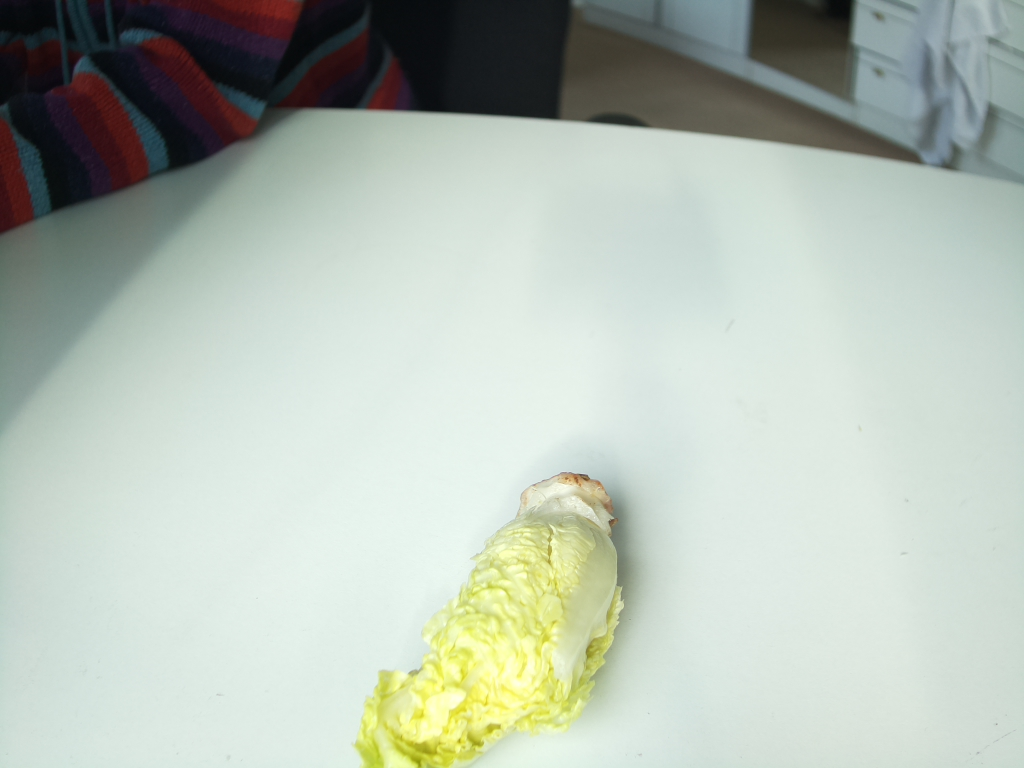salad: (354, 475, 626, 768)
